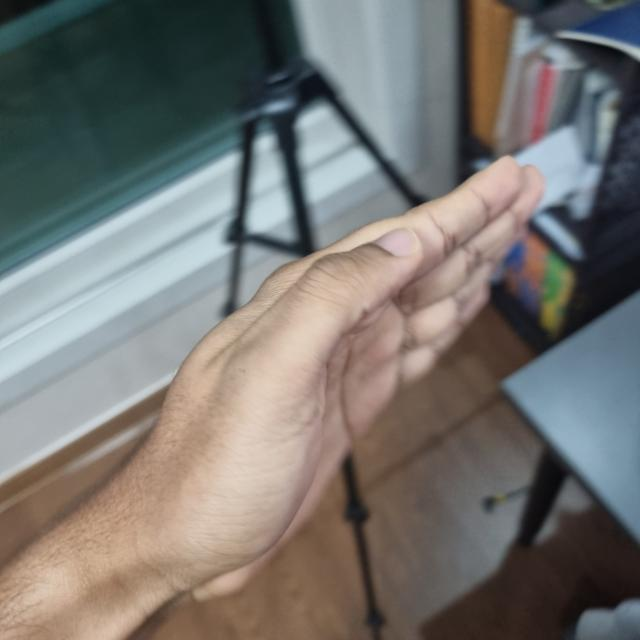Paper: (124, 161, 537, 594)
